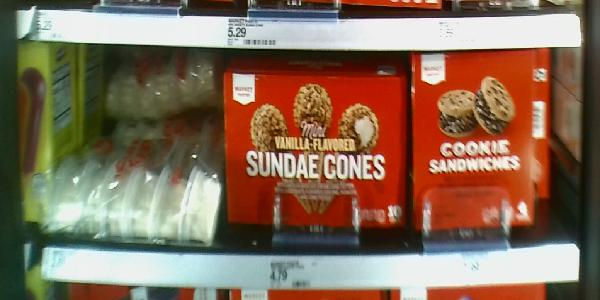icecream: (222, 67, 409, 243), (411, 50, 551, 240)
